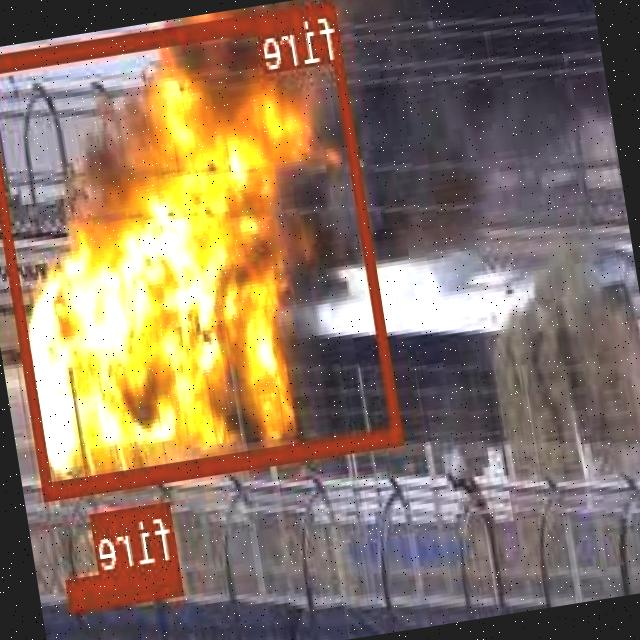fire: (0, 0, 405, 494), (68, 558, 185, 608)
